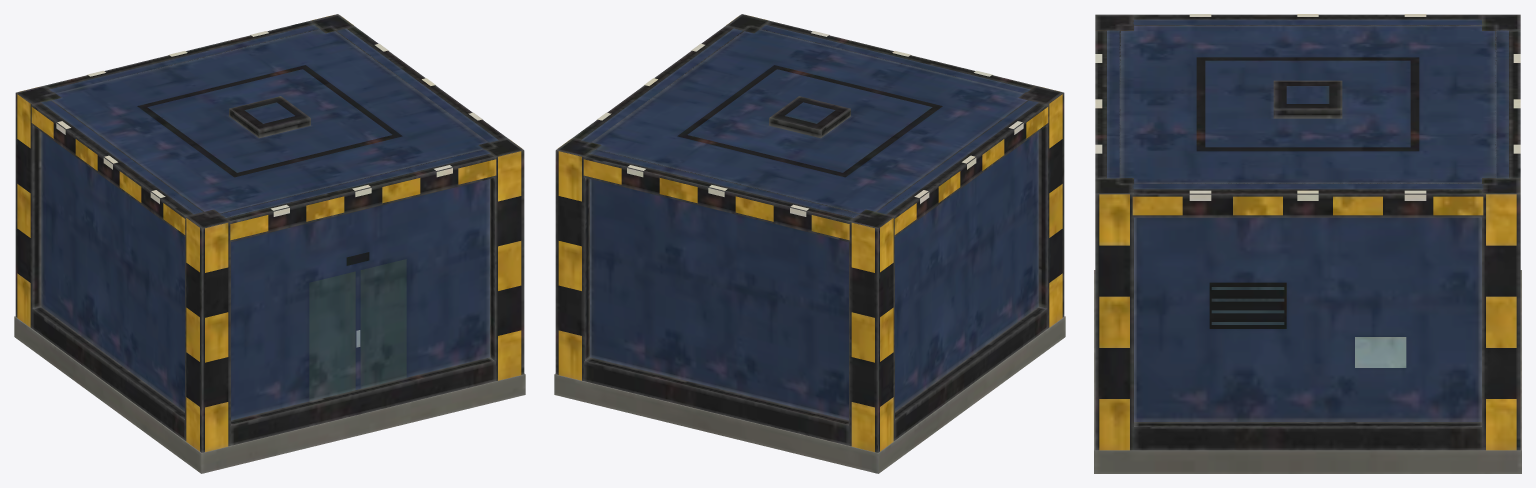
The model's file is hull_composite_closed.glb.
The picture shows the model from 3 angles, left to right: view 1: azimuth 30°, elevation 25°; view 2: azimuth 150°, elevation 25°; view 3: azimuth 270°, elevation 25°; orthographic projection. The views are drawn at different scales.
Parts seen in each view (by area): view 1: te_hull_composite_closed; view 2: te_hull_composite_closed; view 3: te_hull_composite_closed.
Boxes of the visible parts, x1=… form: te_hull_composite_closed: x1=14, y1=14, x2=525, y2=473; te_hull_composite_closed: x1=554, y1=14, x2=1065, y2=473; te_hull_composite_closed: x1=1094, y1=14, x2=1521, y2=473.
Bounding box in the file's own units: 1 × 0.7446 × 1.
Materials: 1 (1 with a texture image).
